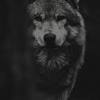Lobo: (20, 2, 88, 95)
